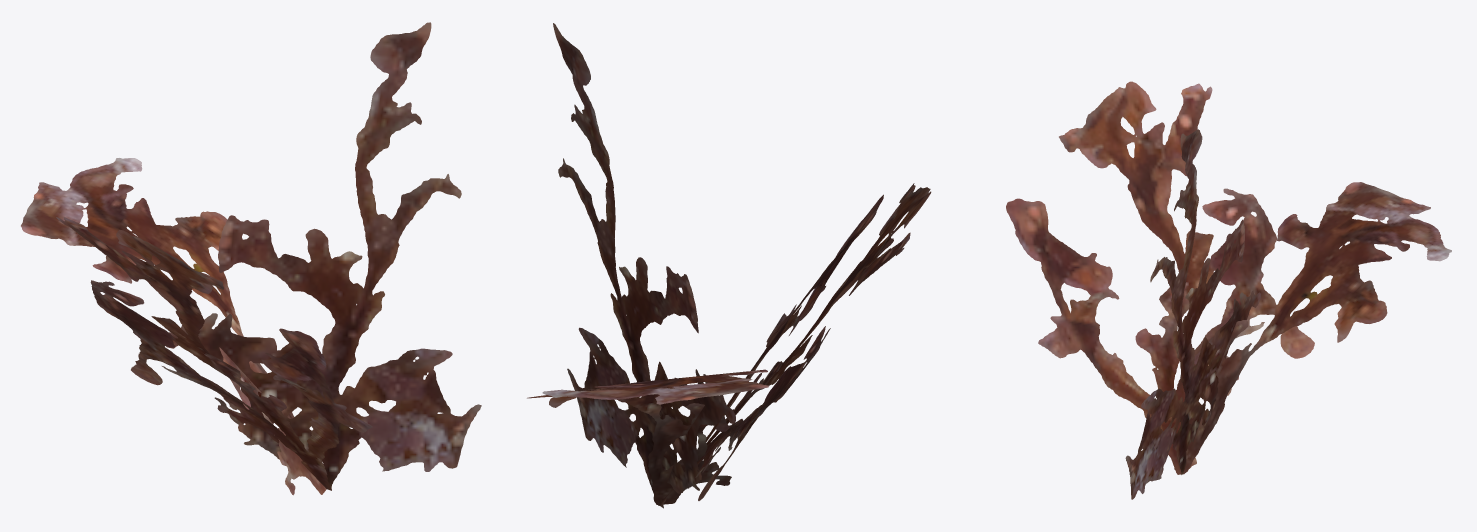
The model's file is seaweed_3_10.FBX.
The picture shows the model from 3 angles, left to right: view 1: azimuth 30°, elevation 25°; view 2: azimuth 150°, elevation 25°; view 3: azimuth 270°, elevation 25°; orthographic projection. The views are drawn at different scales.
Visible parts, largest first — view 1: seaweed_3_10; view 2: seaweed_3_10; view 3: seaweed_3_10.
Part boxes in pixels (box(x1,y1,x2,y2)): seaweed_3_10: box(21, 22, 481, 495); seaweed_3_10: box(527, 23, 931, 508); seaweed_3_10: box(1006, 81, 1451, 499).
Bounding box in the file's own units: 21.18 × 21.57 × 23.44.
1 material, 1 textured.
